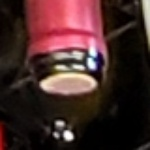bottle: (15, 23, 115, 116)
